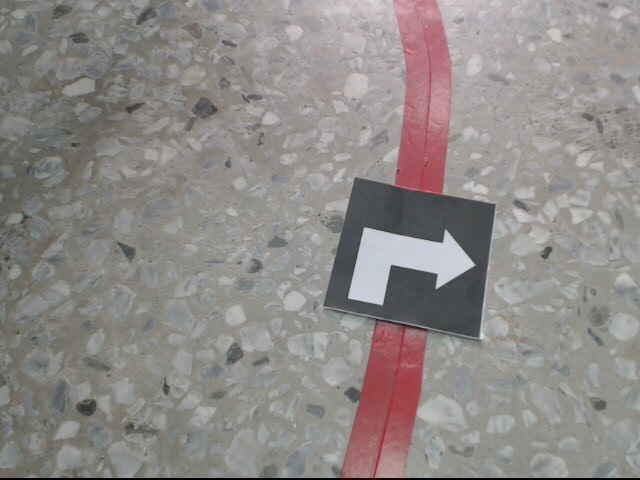right: (323, 178, 496, 341)
